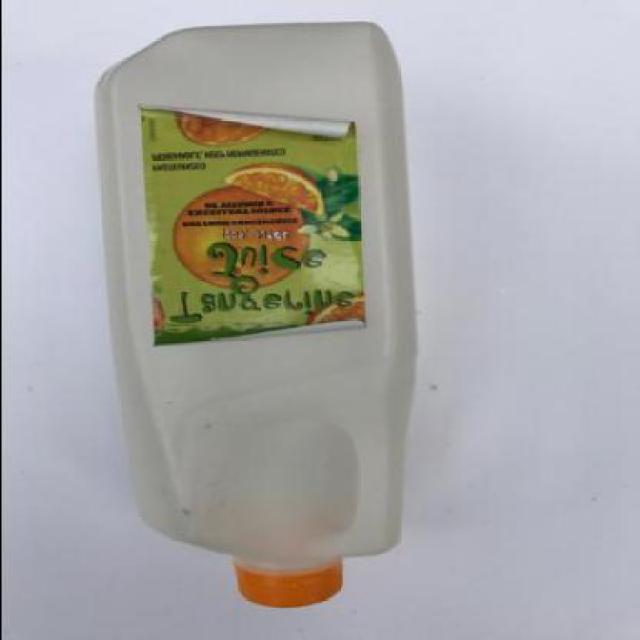PLASTIC: (89, 20, 413, 606), (228, 562, 346, 607)
